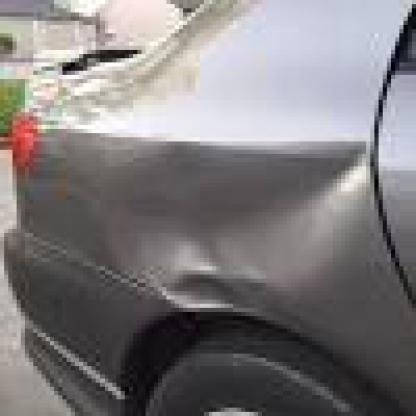dent: (139, 246, 285, 308), (310, 139, 376, 202)
